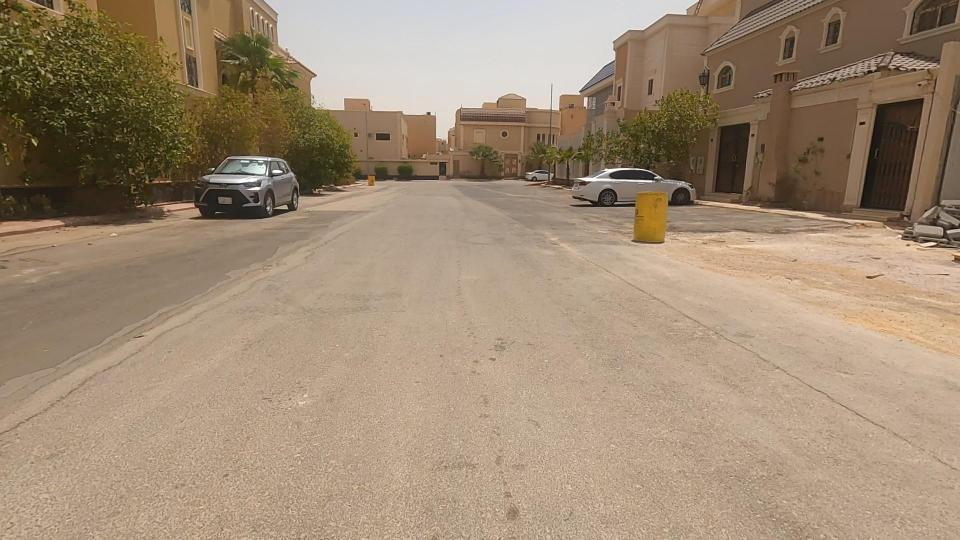GARBAGE: (855, 175, 960, 269)
